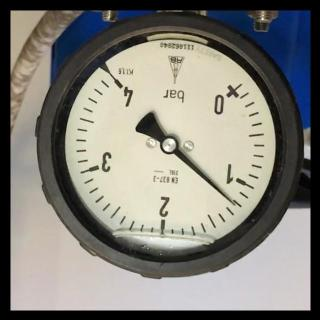gauge: (10, 11, 310, 307), (209, 75, 247, 117), (102, 64, 136, 102), (159, 134, 179, 154), (226, 196, 238, 208)
